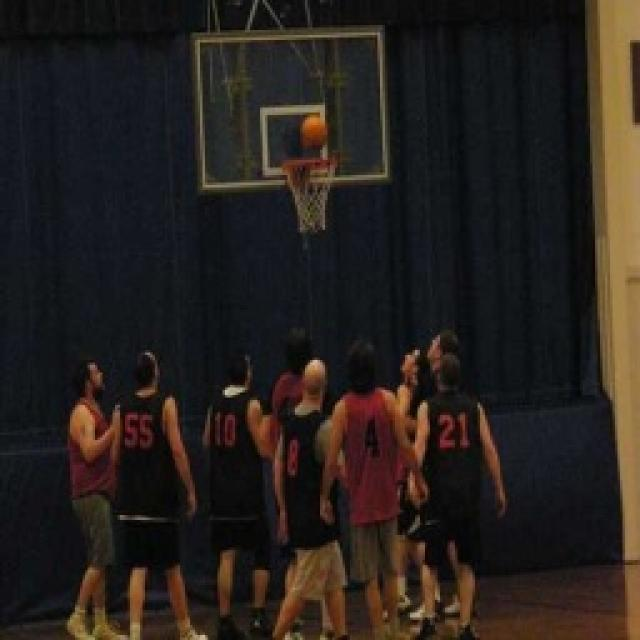rim: (299, 108, 332, 152)
